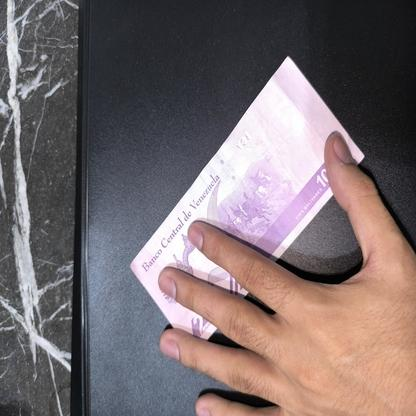one_hundred-back-vef: (129, 56, 365, 342)
